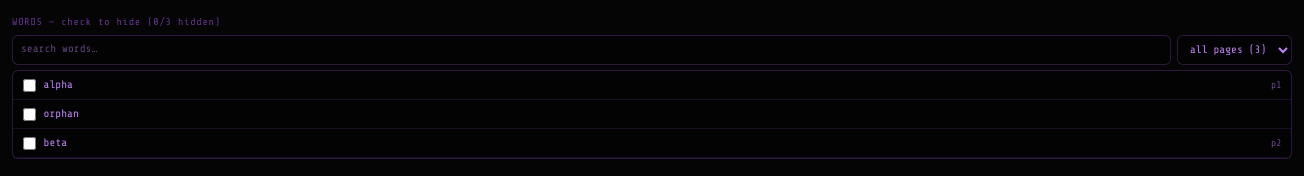
Test: <WordSelect> › keeps words with no resolved page reachable
Select "no page (1)" in the dropdown named "filter words by page": (1234, 50) [1177,35,1292,65]
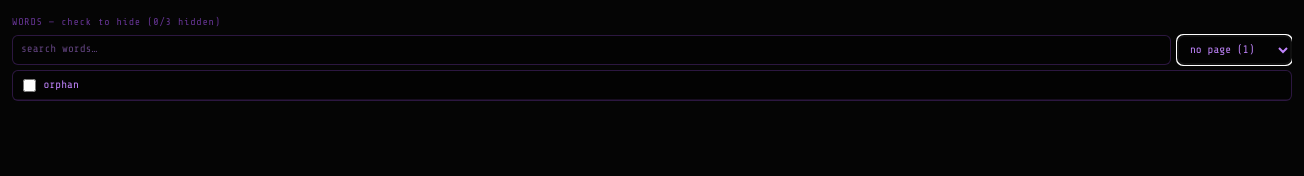
Expected: the text "orphan" is shown, [44,78,79,91]
Expected: the text "alpha" is gone
